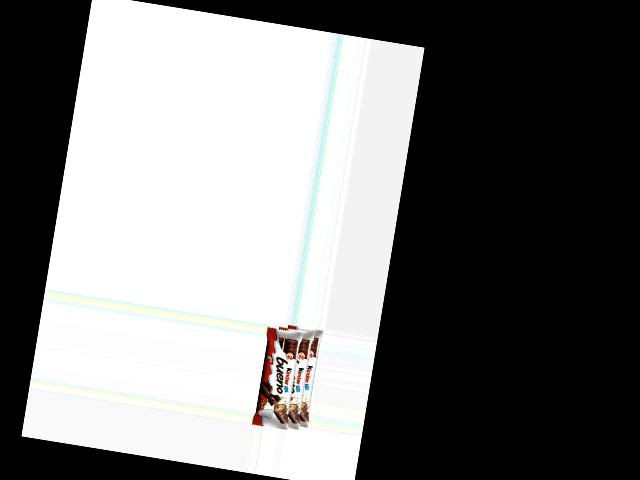chocolate: (251, 322, 323, 431)
